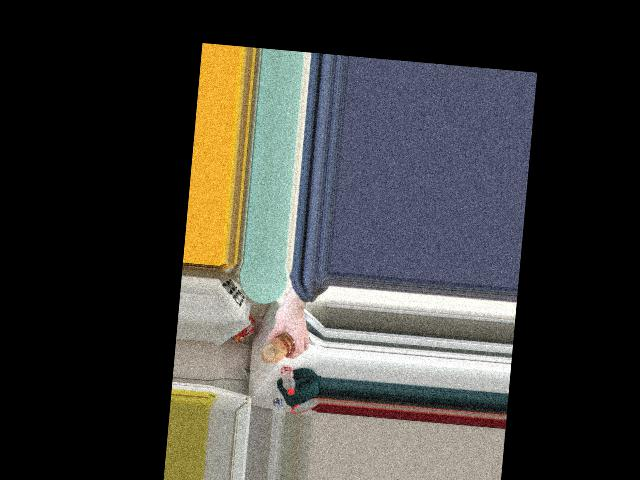sweet_potato: (262, 328, 294, 364)
